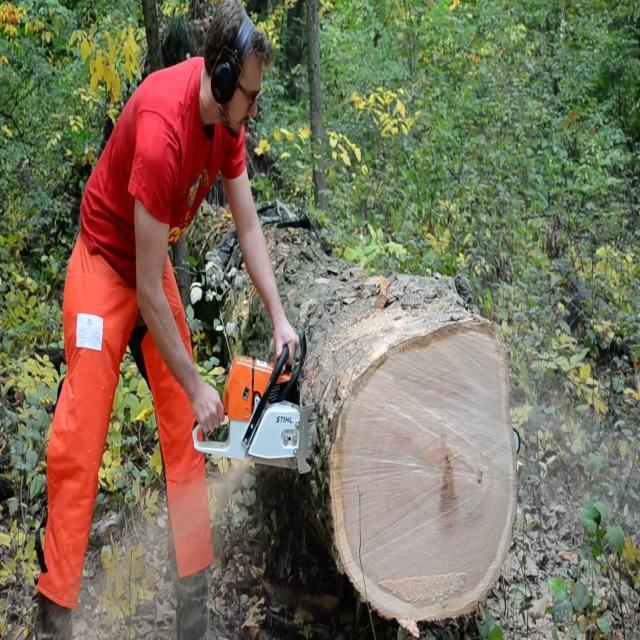Chainsaw: (190, 328, 525, 534)
